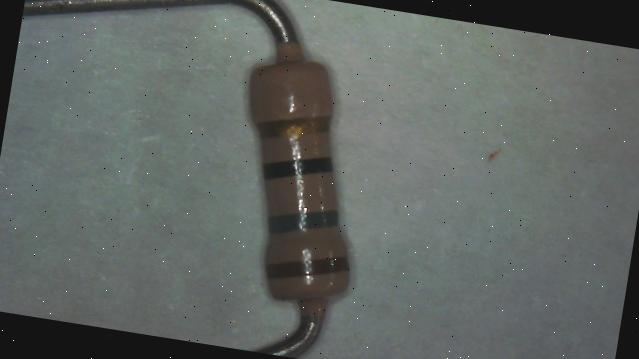black: (260, 146, 332, 188)
brown: (265, 243, 351, 291)
gold: (258, 106, 328, 146)
grey: (266, 199, 340, 242)
resistor: (220, 39, 374, 320)
